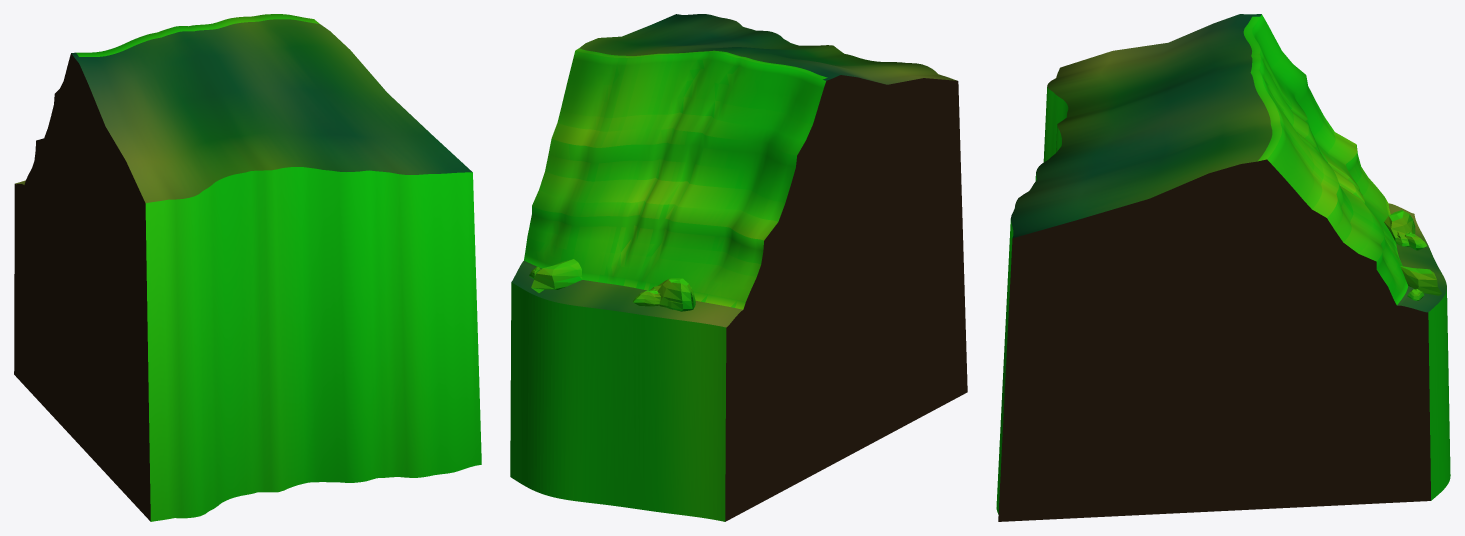
The model's file is SM_ForestRisingCliffs_02.fbx.
3 views of the same model, side by side, from view 1: azimuth 30°, elevation 25°; view 2: azimuth 150°, elevation 25°; view 3: azimuth 270°, elevation 25° (orthographic). The views are drawn at different scales.
Visible parts, largest first — view 1: SM_ForestRisingCliffs_02; view 2: SM_ForestRisingCliffs_02; view 3: SM_ForestRisingCliffs_02.
Part boxes in pixels (x1=…): SM_ForestRisingCliffs_02: x1=14, y1=14, x2=481, y2=521; SM_ForestRisingCliffs_02: x1=510, y1=14, x2=967, y2=521; SM_ForestRisingCliffs_02: x1=996, y1=14, x2=1450, y2=521.
Size of the model in its own units: 41.2 by 53.64 by 49.5.
